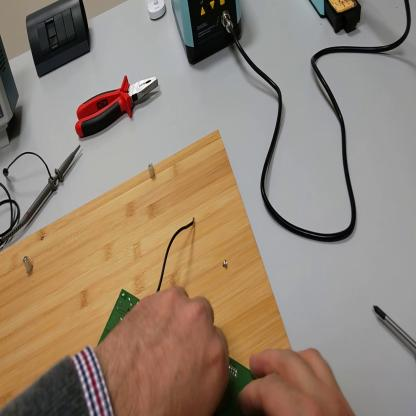hand: (93, 285, 232, 413), (237, 344, 356, 415)
low voltage board: (98, 215, 270, 414)
oscilloscope: (2, 24, 19, 146)
oscilloscope probe tip: (5, 145, 80, 241)
pliers: (73, 66, 164, 139)
screwdriver-: (376, 305, 416, 354)
welder base: (309, 1, 364, 38)
welder station: (173, 2, 250, 73)
working area: (2, 128, 297, 415)
